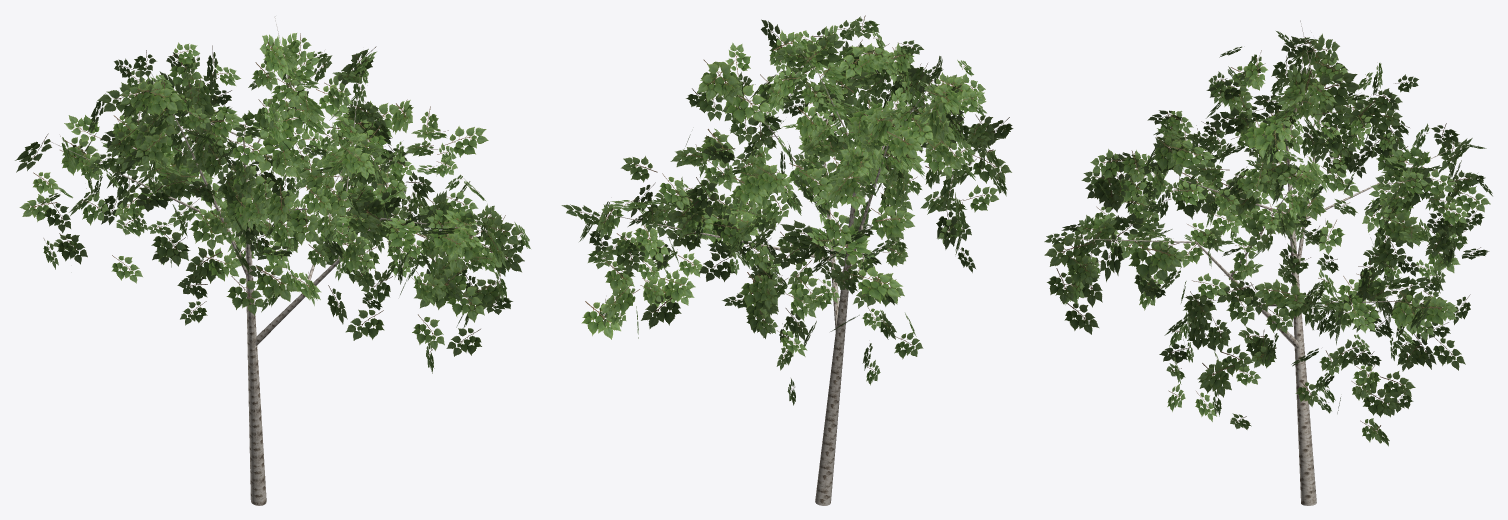
The model's file is fm_birch.glb.
3 views of the same model, side by side, from view 1: azimuth 30°, elevation 25°; view 2: azimuth 150°, elevation 25°; view 3: azimuth 270°, elevation 25° (orthographic). The views are drawn at different scales.
Parts seen in each view (by area): view 1: L2_leaves, L3_leaves, L2_bark; view 2: L2_leaves, L3_leaves, L2_bark; view 3: L2_leaves, L3_leaves, L2_bark.
Boxes of the visible parts, box(x1,y1,x2,y2) form: L2_leaves: box(15, 33, 530, 368); L3_leaves: box(19, 33, 524, 373); L2_bark: box(47, 16, 490, 505); L2_leaves: box(561, 15, 1013, 405); L3_leaves: box(579, 27, 1001, 370); L2_bark: box(595, 39, 940, 505); L2_leaves: box(1044, 31, 1492, 444); L3_leaves: box(1044, 37, 1478, 446); L2_bark: box(1070, 20, 1460, 505).
Bounding box in the file's own units: 14.12 × 17.77 × 16.22.
Materials: 4 (4 with a texture image).
